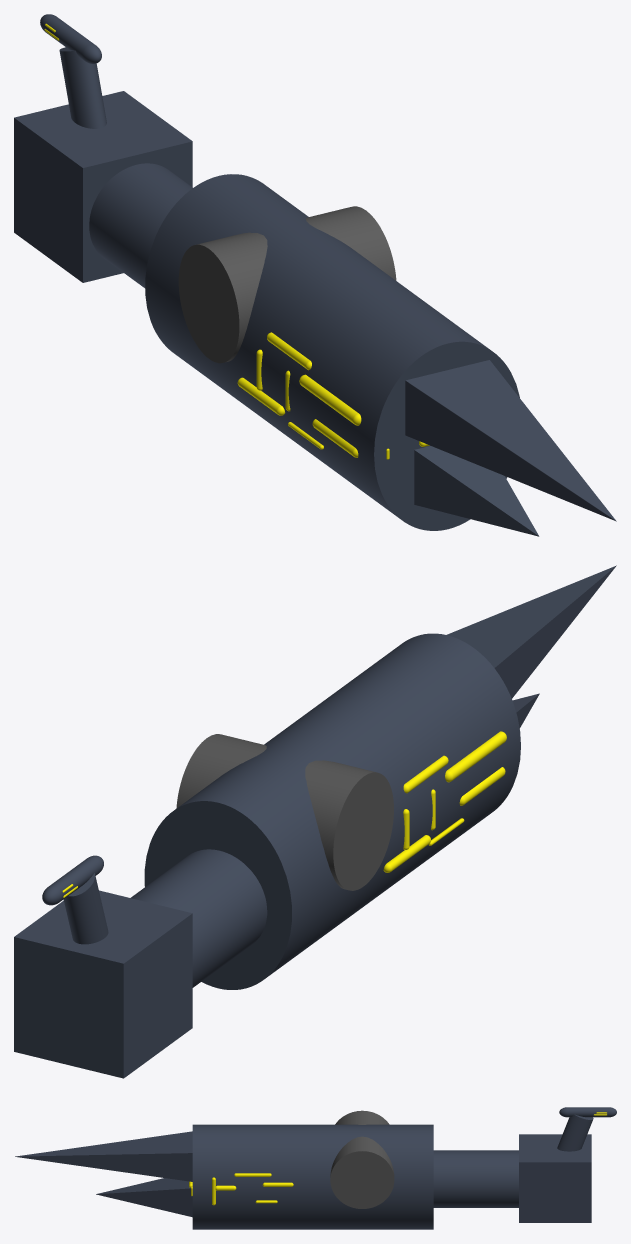
Rendered from sw_malevolence.glb.
3 renders of one model, top to bottom at view 1: azimuth 30°, elevation 25°; view 2: azimuth 150°, elevation 25°; view 3: azimuth 270°, elevation 25°, orthographic. The views are drawn at different scales.
Parts seen in each view (by area): view 1: Object_13, Object_7, Object_15, Object_27, Object_5, Object_17, Object_9, Object_11, Object_35; view 2: Object_13, Object_7, Object_27, Object_5, Object_15, Object_9, Object_11, Object_35; view 3: Object_13, Object_7, Object_5, Object_15, Object_27, Object_17, Object_9, Object_11.
Boxes of the visible parts, left/top/right/bottom form: Object_13: left=145, top=174, right=519, bottom=530; Object_7: left=14, top=91, right=192, bottom=282; Object_15: left=405, top=360, right=616, bottom=521; Object_27: left=178, top=206, right=396, bottom=363; Object_5: left=89, top=163, right=192, bottom=288; Object_17: left=414, top=446, right=539, bottom=536; Object_9: left=59, top=47, right=106, bottom=128; Object_11: left=40, top=14, right=101, bottom=63; Object_35: left=299, top=374, right=361, bottom=425; Object_13: left=144, top=633, right=520, bottom=989; Object_7: left=14, top=890, right=192, bottom=1078; Object_27: left=176, top=734, right=393, bottom=890; Object_5: left=131, top=849, right=267, bottom=987; Object_15: left=447, top=565, right=616, bottom=698; Object_9: left=63, top=873, right=108, bottom=944; Object_11: left=42, top=855, right=103, bottom=905; Object_35: left=445, top=731, right=506, bottom=782; Object_13: left=192, top=1124, right=433, bottom=1229; Object_7: left=519, top=1134, right=591, bottom=1222; Object_5: left=433, top=1150, right=518, bottom=1207; Object_15: left=15, top=1131, right=192, bottom=1181; Object_27: left=330, top=1110, right=394, bottom=1208; Object_17: left=96, top=1178, right=192, bottom=1217; Object_9: left=557, top=1114, right=593, bottom=1151; Object_11: left=559, top=1107, right=616, bottom=1117.
Size of the model in its own units: 0.3109 by 0.4241 by 1.96.
Materials: 23 (23 with a texture image).
